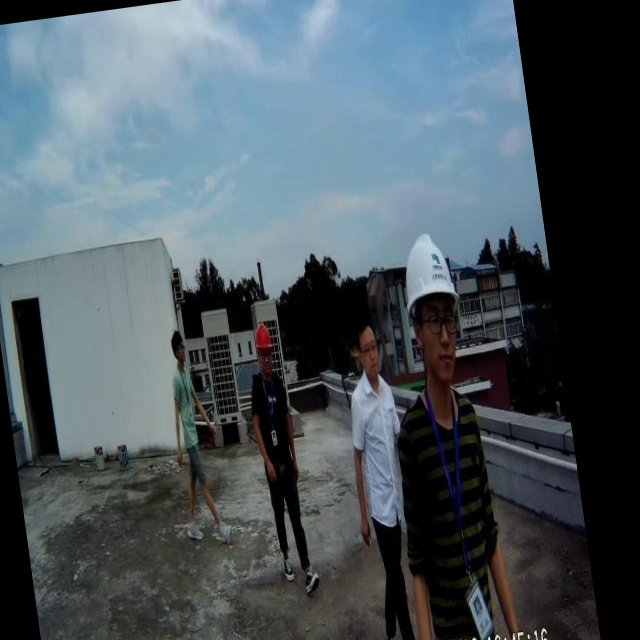Con_Casco: (253, 319, 277, 374)
Sin_Casco_Mascarrilla: (352, 316, 382, 379)
Sin_Chaleco: (341, 370, 413, 542), (248, 369, 300, 486)
